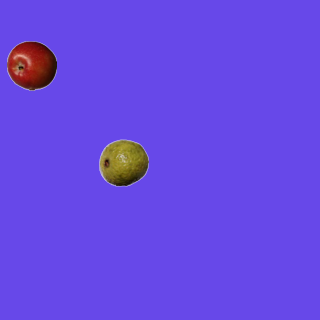Apple Braeburn: (6, 40, 56, 90)
Guava: (98, 137, 148, 187)
